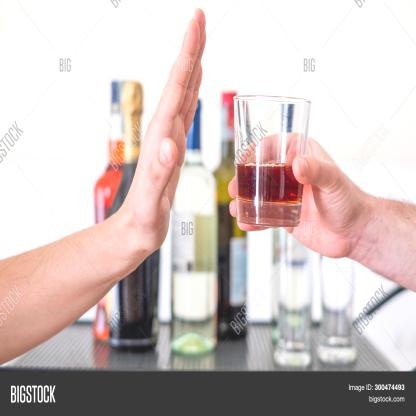Stop: (129, 12, 219, 258)
